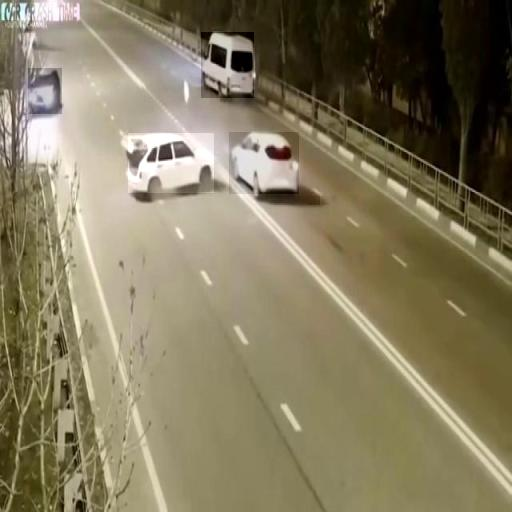小汽车: (128, 133, 214, 193), (229, 132, 299, 194), (201, 32, 254, 98), (28, 68, 62, 114)
